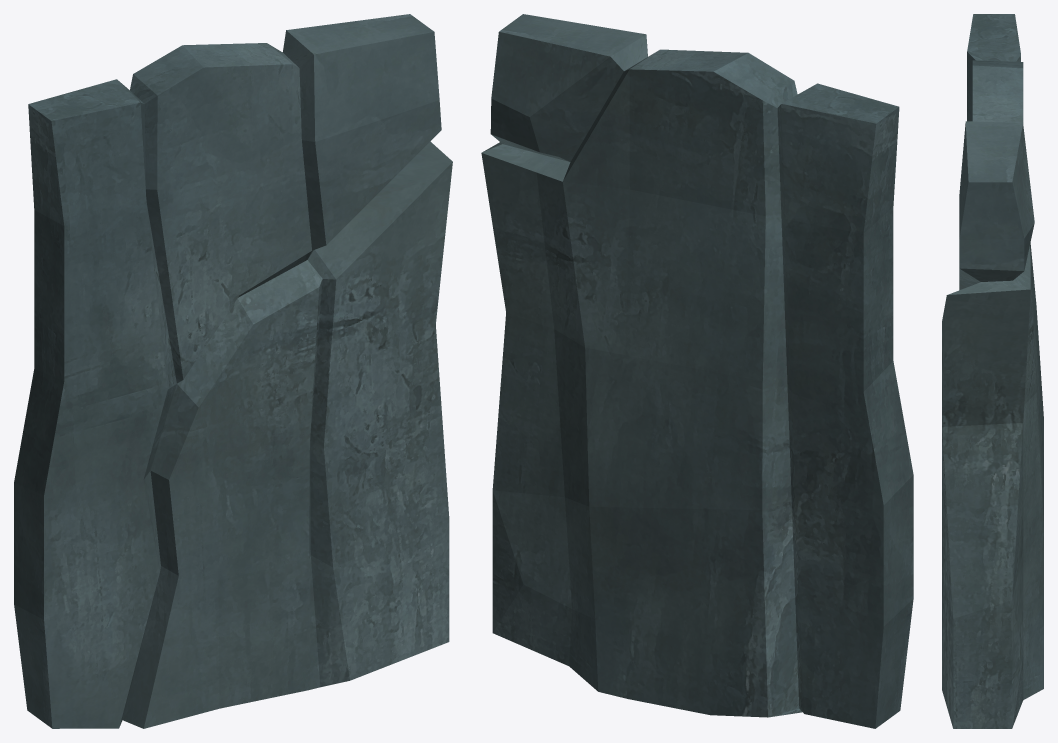
Rendered from RockWall_9.fbx.
The picture shows the model from 3 angles, left to right: view 1: azimuth 30°, elevation 25°; view 2: azimuth 150°, elevation 25°; view 3: azimuth 270°, elevation 25°; orthographic projection. The views are drawn at different scales.
Parts seen in each view (by area): view 1: pCube11; view 2: pCube11; view 3: pCube11.
Boxes of the visible parts, x1,y1,x2,y2 form: pCube11: [14, 14, 452, 728]; pCube11: [481, 14, 913, 728]; pCube11: [942, 14, 1043, 728].
Size of the model in its own units: 9.43 by 14.46 by 2.32.
